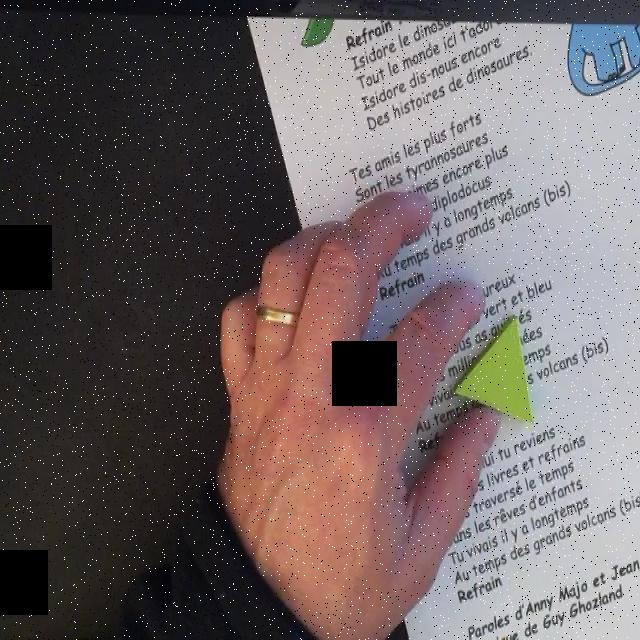triangle: (454, 314, 536, 429)
